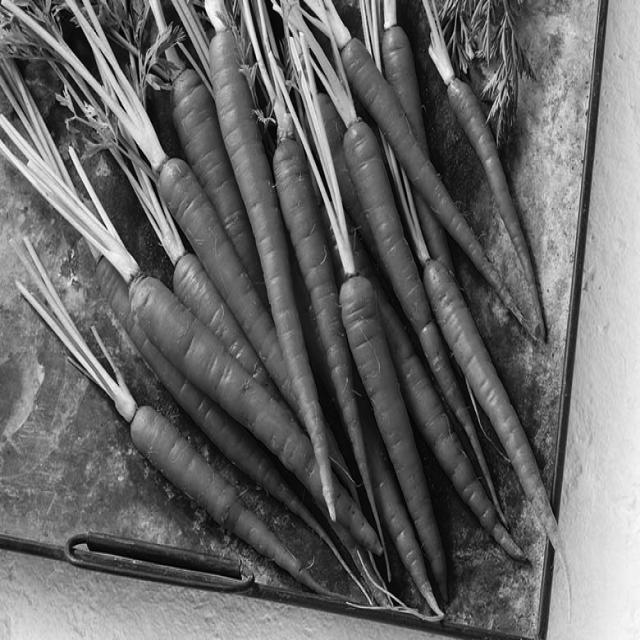Fresh_Carrot: (214, 64, 434, 546), (286, 246, 478, 593), (184, 49, 300, 470)
carrot: (128, 405, 344, 597), (446, 67, 544, 337)
